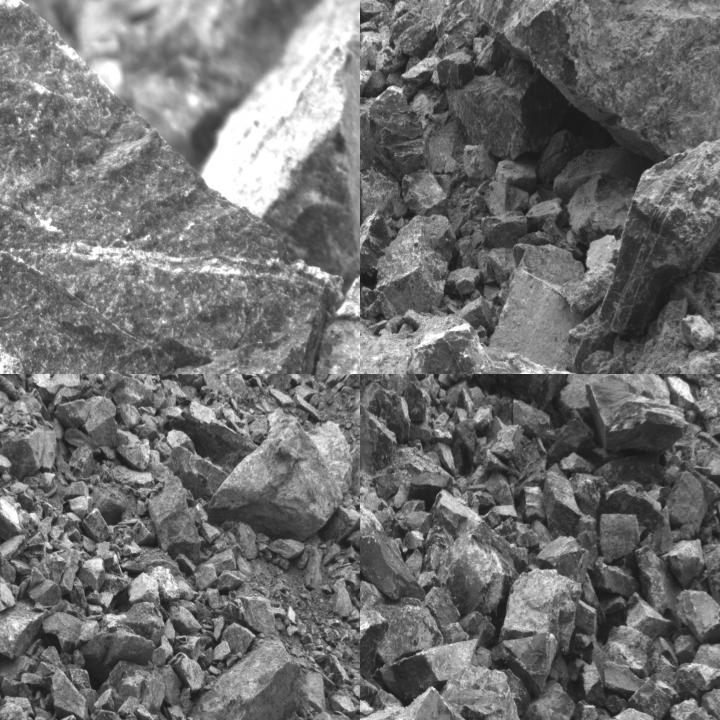stone: (0, 0, 346, 373), (467, 0, 719, 168), (598, 138, 719, 339), (202, 408, 343, 542), (416, 489, 529, 625), (491, 245, 589, 367), (360, 212, 457, 320), (446, 72, 566, 158), (187, 633, 296, 719), (586, 375, 689, 453), (360, 580, 444, 665), (360, 87, 432, 183), (499, 570, 582, 652), (376, 638, 478, 702), (360, 509, 427, 602), (85, 601, 164, 678), (559, 374, 671, 420), (439, 664, 531, 719), (149, 464, 200, 558), (490, 633, 559, 698), (474, 374, 574, 410), (635, 546, 679, 626), (360, 383, 412, 448), (170, 447, 228, 504), (0, 427, 58, 483), (604, 625, 660, 679), (666, 471, 708, 541), (543, 464, 581, 539), (360, 403, 399, 476), (654, 656, 719, 698), (423, 586, 469, 644), (0, 597, 43, 659), (536, 536, 588, 584), (676, 589, 719, 644), (600, 513, 646, 563), (626, 592, 674, 639), (400, 169, 448, 215), (662, 538, 704, 590), (229, 591, 275, 638), (44, 612, 98, 652), (521, 679, 574, 719), (360, 609, 390, 679), (51, 667, 90, 719), (392, 696, 474, 719), (82, 396, 118, 447), (592, 559, 639, 597), (513, 399, 550, 446), (639, 679, 682, 719), (393, 20, 435, 57), (458, 611, 495, 652), (641, 507, 672, 555), (481, 212, 527, 244), (602, 661, 644, 696), (170, 653, 208, 691), (114, 428, 149, 469), (437, 52, 475, 89), (112, 374, 154, 407), (0, 497, 29, 539), (409, 473, 454, 500), (126, 572, 160, 606), (221, 623, 255, 654), (330, 583, 358, 620), (664, 376, 694, 410), (54, 399, 89, 428), (79, 554, 105, 591), (168, 606, 202, 634), (82, 508, 110, 542), (64, 428, 100, 454), (360, 652, 379, 701), (28, 580, 62, 606), (166, 428, 197, 456), (692, 642, 719, 674), (706, 542, 719, 608), (70, 446, 95, 480), (214, 568, 246, 594), (267, 538, 303, 561), (574, 599, 596, 636), (28, 375, 60, 400), (62, 495, 94, 519), (597, 708, 666, 719), (360, 66, 373, 120), (559, 453, 595, 472), (116, 403, 142, 428), (405, 549, 423, 580), (0, 701, 29, 719), (67, 669, 91, 690), (175, 554, 196, 577), (103, 374, 128, 393), (51, 374, 82, 389), (473, 646, 494, 668), (0, 582, 15, 611), (205, 588, 223, 609), (346, 524, 359, 552), (418, 570, 440, 586), (212, 616, 225, 640), (360, 699, 374, 718), (0, 451, 11, 475)
